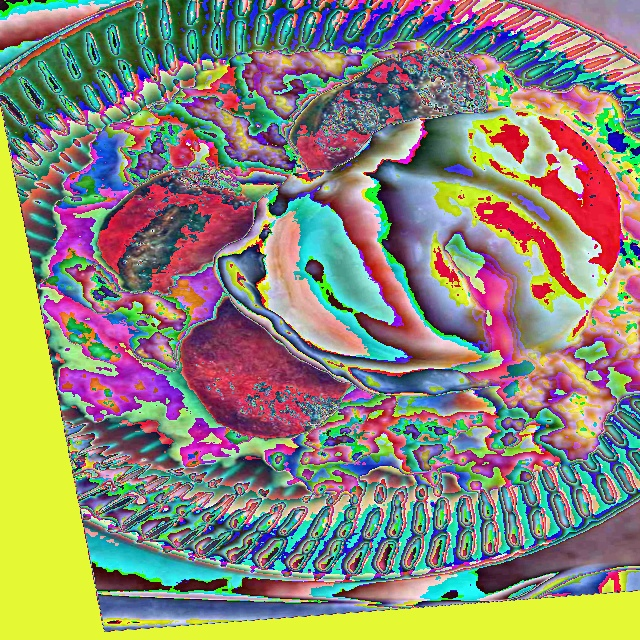background: (37, 39, 639, 497)
